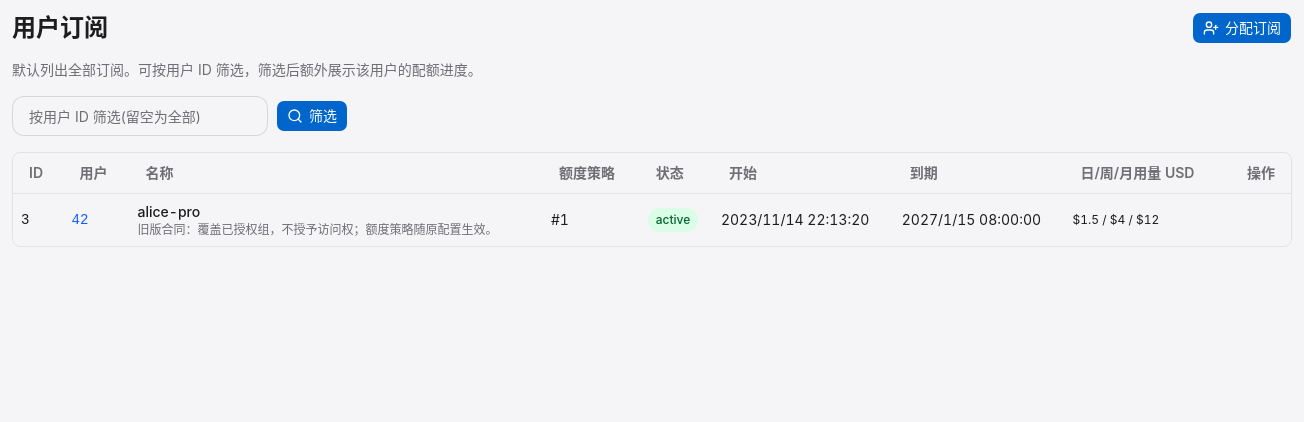
AdminSubscriptionsPage › reads another user progress through the managed endpoint with the read permission
Check: the text "alice-pro" is shown, box 138,202 -> 200,220
Type "42" into the number field with placeholder "按用户 ID 筛选(留空为全部)" at point(140, 116), box 12,96 -> 268,136
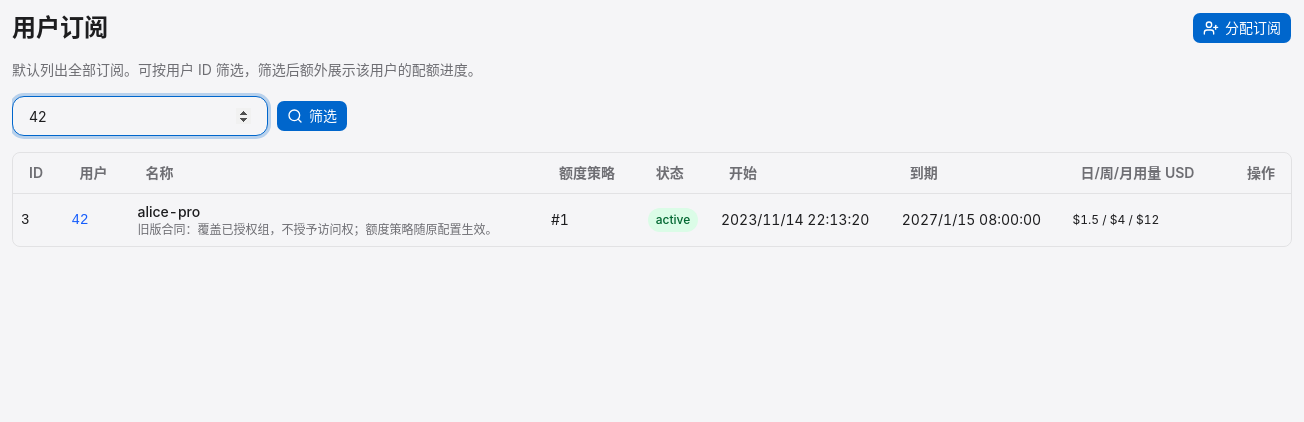
Click the button "筛选" at point(312, 116), box 276,100 -> 348,132
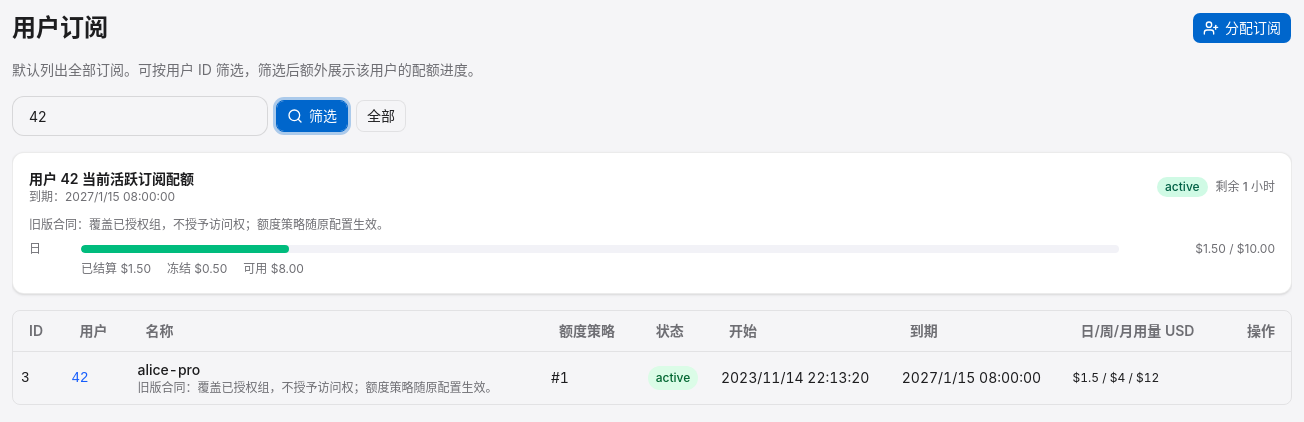
Check: the text "用户 42 当前活跃订阅配额" is shown, box 29,169 -> 194,189
Check: the text "可用 $8.00" is shown, box 243,261 -> 304,277
